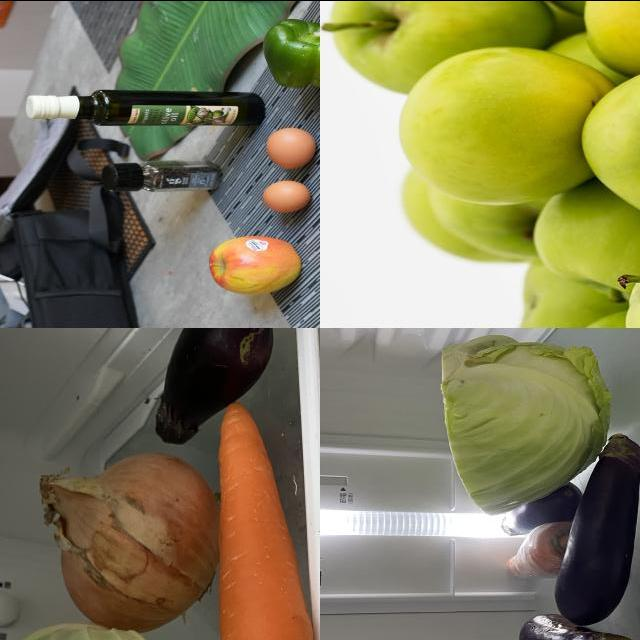bell_pepper: (260, 14, 321, 94), (106, 157, 220, 195)
cabbage: (437, 328, 610, 515)
carrot: (504, 522, 577, 579)
egg: (261, 124, 321, 169), (261, 179, 315, 214)
eggplant: (220, 399, 320, 640), (552, 433, 640, 621), (151, 328, 277, 446), (515, 618, 634, 640)
onion: (36, 449, 228, 629)
